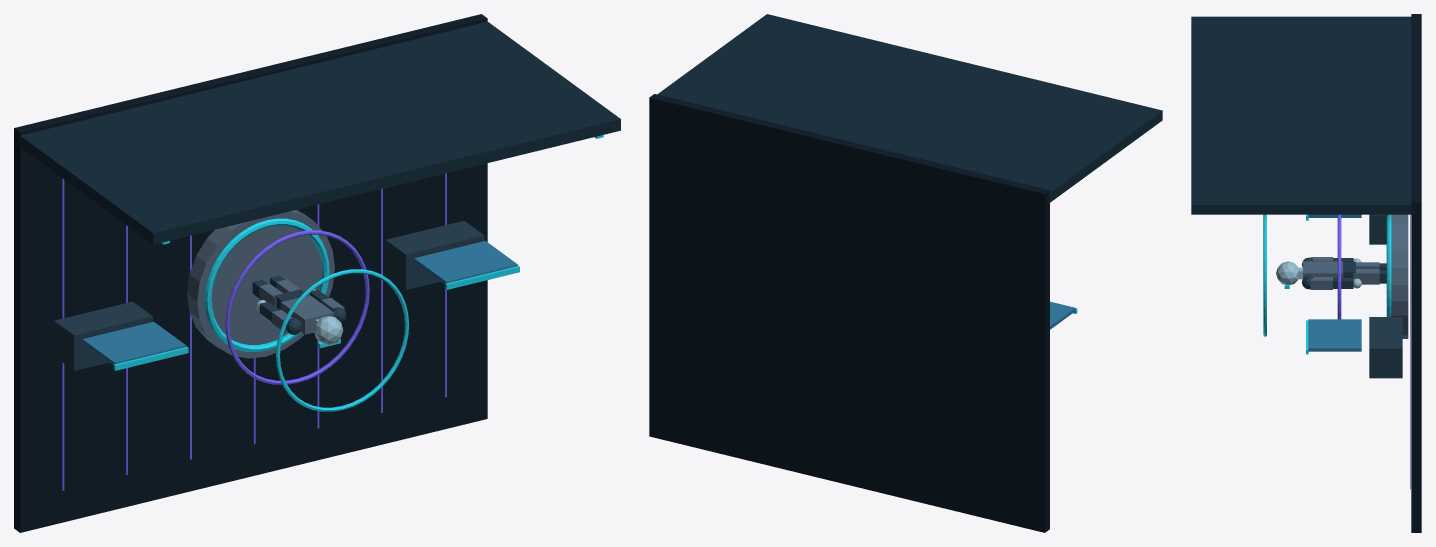
Rendered from 01_Futuristic_Hologram_Lab.obj.
3 renders of one model, left to right at view 1: azimuth 30°, elevation 25°; view 2: azimuth 150°, elevation 25°; view 3: azimuth 270°, elevation 25°, orthographic. The views are drawn at different scales.
Parts seen in each view (by area): view 1: Lab_Floor, Back_Wall, Avatar_Plinth, Side_Desk_1, Side_Desk_0, Holo_Screen_0, Holo_Screen_1, Platform_Cyan_Ring, Hologram_Ring_Low, Hologram_Ring_High, JARVIS_Avatar_torso, Floor_Line__4_5; view 2: Lab_Floor, Back_Wall; view 3: Back_Wall, Lab_Floor, Side_Desk_1, Avatar_Plinth, Holo_Screen_1, Platform_Cyan_Ring, JARVIS_Avatar_torso, Side_Desk_0, Hologram_Ring_Low, Hologram_Ring_High, JARVIS_Avatar_head, JARVIS_Avatar_thigh_R (+1 smaller).
Part boxes in pixels (box(x1,y1,x2,y2)): Lab_Floor: box(14, 14, 487, 532); Back_Wall: box(18, 21, 620, 244); Avatar_Plinth: box(187, 210, 334, 358); Side_Desk_1: box(385, 220, 484, 289); Side_Desk_0: box(54, 301, 152, 370); Holo_Screen_0: box(82, 321, 186, 365); Holo_Screen_1: box(414, 241, 517, 284); Platform_Cyan_Ring: box(204, 218, 329, 351); Hologram_Ring_Low: box(225, 230, 369, 384); Hologram_Ring_High: box(275, 269, 408, 411); JARVIS_Avatar_torso: box(280, 295, 334, 334); Floor_Line__4_5: box(62, 178, 64, 490); Lab_Floor: box(649, 94, 1049, 532); Back_Wall: box(657, 14, 1162, 203); Back_Wall: box(1191, 16, 1414, 214); Lab_Floor: box(1411, 14, 1421, 532); Side_Desk_1: box(1369, 317, 1402, 378); Avatar_Plinth: box(1391, 214, 1408, 338); Holo_Screen_1: box(1308, 319, 1361, 351); Platform_Cyan_Ring: box(1386, 214, 1391, 316); JARVIS_Avatar_torso: box(1303, 261, 1343, 278); Side_Desk_0: box(1369, 214, 1387, 244); Hologram_Ring_Low: box(1337, 214, 1341, 319); Hologram_Ring_High: box(1263, 214, 1266, 336); JARVIS_Avatar_head: box(1276, 261, 1298, 284); JARVIS_Avatar_thigh_R: box(1353, 269, 1379, 284).
Bounding box in the file's own units: 11 × 9 × 5.68.
